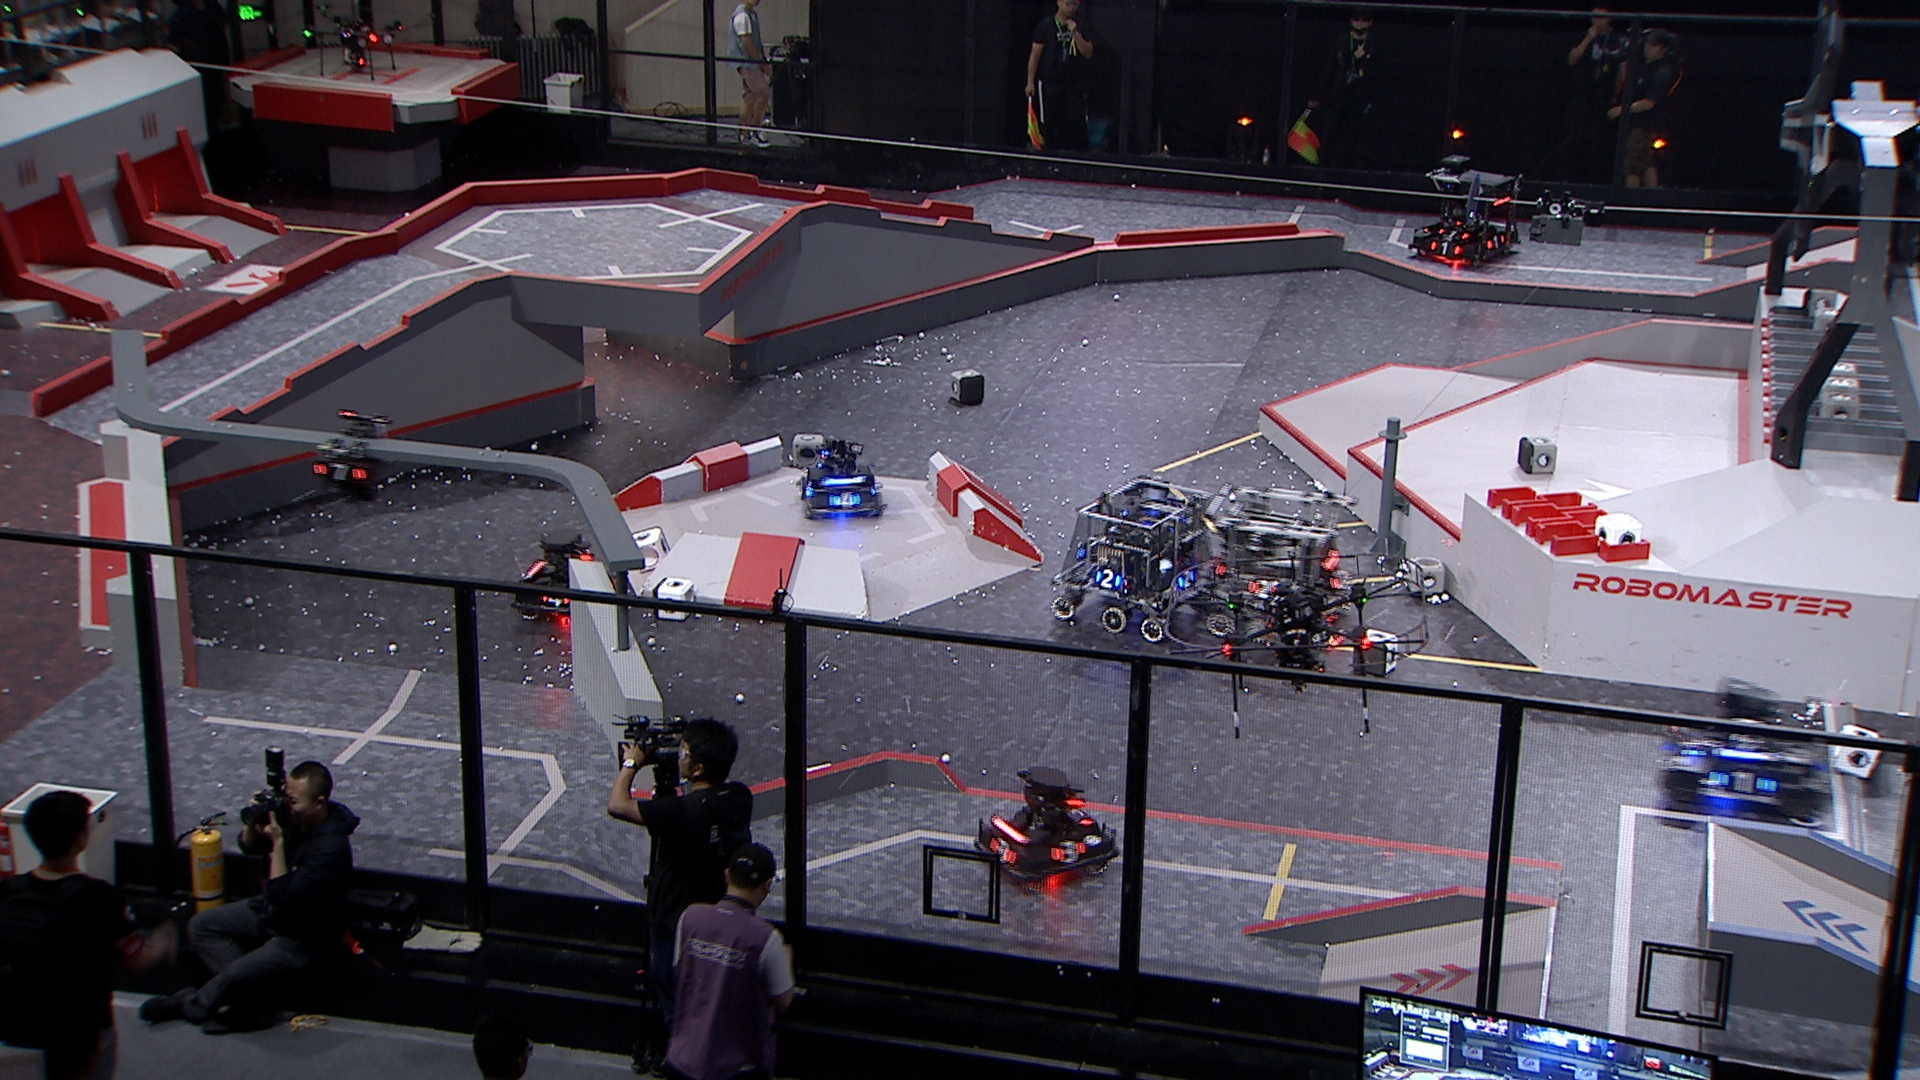armor: (1709, 769, 1778, 794), (315, 462, 368, 483), (1048, 837, 1087, 866), (988, 835, 1017, 868), (1677, 732, 1712, 760), (1060, 803, 1093, 827), (1245, 579, 1280, 600), (1093, 568, 1125, 589), (1429, 239, 1462, 258), (828, 491, 860, 509), (1176, 566, 1199, 589), (1436, 225, 1472, 240), (538, 593, 572, 608), (1486, 233, 1509, 249), (800, 477, 814, 498)
car: (1048, 471, 1224, 644), (1654, 678, 1833, 831), (1197, 485, 1356, 647), (971, 761, 1117, 894), (1406, 156, 1524, 266), (509, 529, 628, 624), (794, 433, 885, 522)
watcher: (311, 410, 394, 502)
